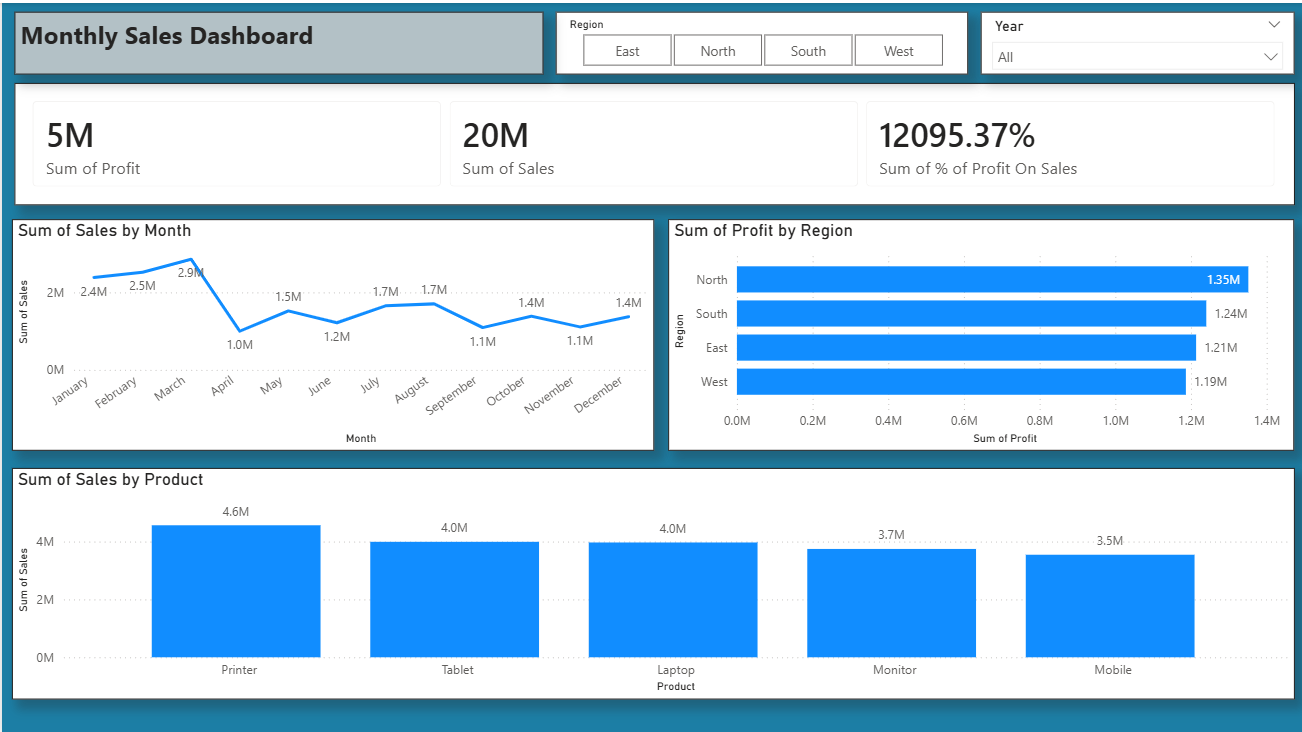

What the dashboard file says about the page in this screenshot:
{"tool":"powerbi","page":{"name":"Sales Dashboard","canvas":[1280,720],"ordinal":0},"visuals":[{"type":"cardVisual","fields":{"Data":["Sum(salesdb sales_data.Profit)","Sum(salesdb sales_data.Sales)","Sum(salesdb sales_data.% of Profit On Sales)"]},"box":[12.3,78.5,1256.4,120.2],"z":0},{"type":"lineChart","fields":{"Category":["salesdb sales_data.Order_Date.Variation.Date Hierarchy.Month"],"Y":["Sum(salesdb sales_data.Sales)"]},"box":[9.8,212.3,630.7,227],"z":1000},{"type":"barChart","fields":{"Category":["salesdb sales_data.Region"],"Y":["Sum(salesdb sales_data.Profit)"]},"box":[654,212.3,614.7,227],"z":2000},{"type":"clusteredColumnChart","fields":{"Category":["salesdb sales_data.Product"],"Y":["Sum(salesdb sales_data.Sales)"]},"box":[9.8,456.4,1258.9,227],"z":3000},{"type":"slicer","fields":{"Values":["salesdb sales_data.Region"]},"box":[543.6,8.6,404.9,61.4],"z":3001},{"type":"slicer","fields":{"Values":["salesdb sales_data.Order_Date.Variation.Date Hierarchy.Year"]},"box":[960.7,8.6,308,61.4],"z":3002},{"type":"textbox","box":[12.3,8.6,519,61.4],"z":3003}]}

Visuals, with their boxes in screenshot pixels (x1, y1, x2, y2), scaled from the page's 1280x720 canvas onto the 1302x732 screenshot:
cardVisual - Sum(salesdb sales_data.Profit) x Sum(salesdb sales_data.Sales): {"left": 13, "top": 80, "right": 1291, "bottom": 202}
lineChart - salesdb sales_data.Order_Date.Variation.Date Hierarchy.Month x Sum(salesdb sales_data.Sales): {"left": 10, "top": 216, "right": 652, "bottom": 447}
barChart - salesdb sales_data.Region x Sum(salesdb sales_data.Profit): {"left": 665, "top": 216, "right": 1291, "bottom": 447}
clusteredColumnChart - salesdb sales_data.Product x Sum(salesdb sales_data.Sales): {"left": 10, "top": 464, "right": 1291, "bottom": 695}
slicer - salesdb sales_data.Region: {"left": 553, "top": 9, "right": 965, "bottom": 71}
slicer - salesdb sales_data.Order_Date.Variation.Date Hierarchy.Year: {"left": 977, "top": 9, "right": 1291, "bottom": 71}
textbox: {"left": 13, "top": 9, "right": 540, "bottom": 71}
